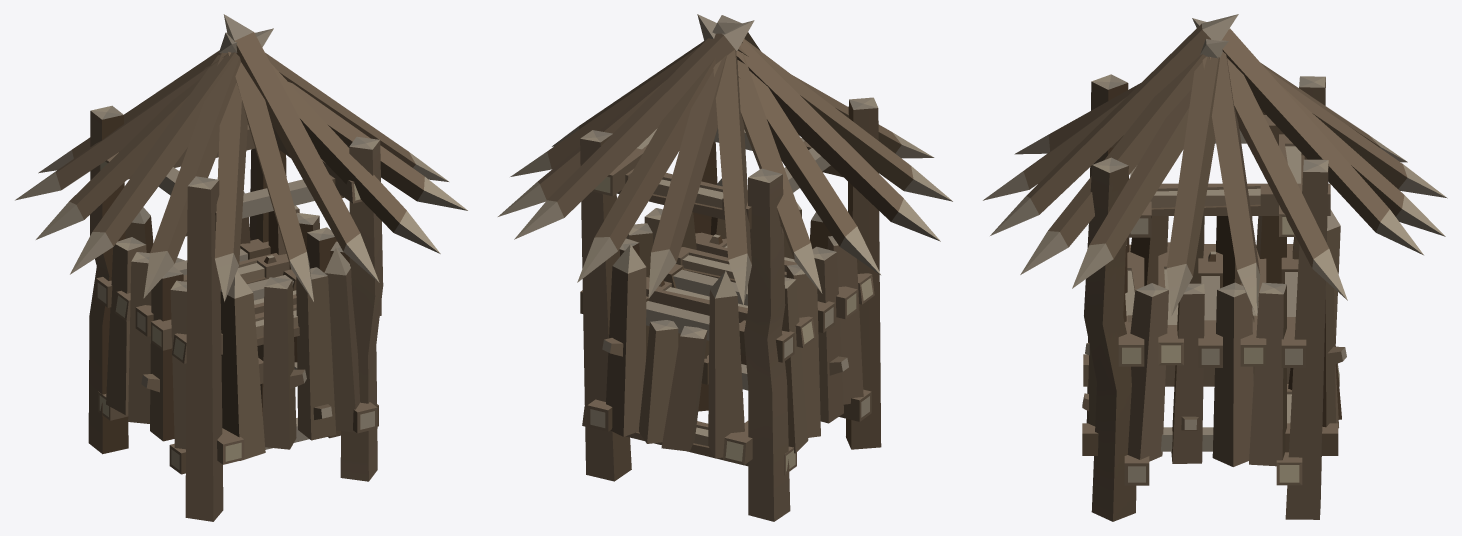
The model's file is MediumLess_SF_Bld_Goblin_Hut_01.fbx.
3 renders of one model, left to right at view 1: azimuth 30°, elevation 25°; view 2: azimuth 150°, elevation 25°; view 3: azimuth 270°, elevation 25°, orthographic. The views are drawn at different scales.
Parts seen in each view (by area): view 1: SF_Bld_Goblin_Hut_01; view 2: SF_Bld_Goblin_Hut_01; view 3: SF_Bld_Goblin_Hut_01.
Boxes of the visible parts, left/top/right/bottom form: SF_Bld_Goblin_Hut_01: left=15, top=14, right=467, bottom=521; SF_Bld_Goblin_Hut_01: left=498, top=14, right=952, bottom=521; SF_Bld_Goblin_Hut_01: left=983, top=14, right=1447, bottom=521.
Size of the model in its own units: 513 by 561 by 515.
